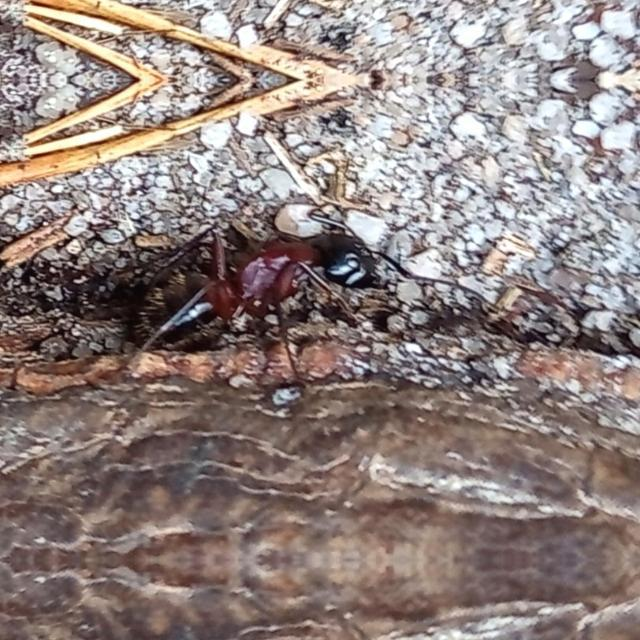Camponotus: (126, 190, 424, 362)
